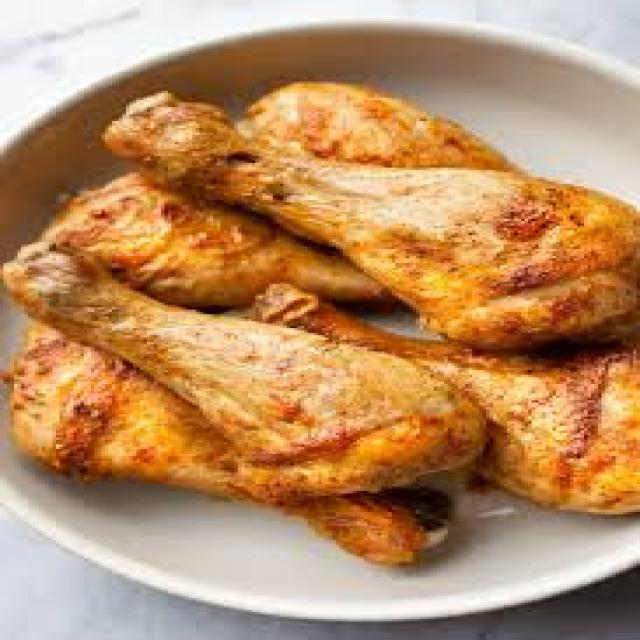Frango: (14, 56, 640, 577)
